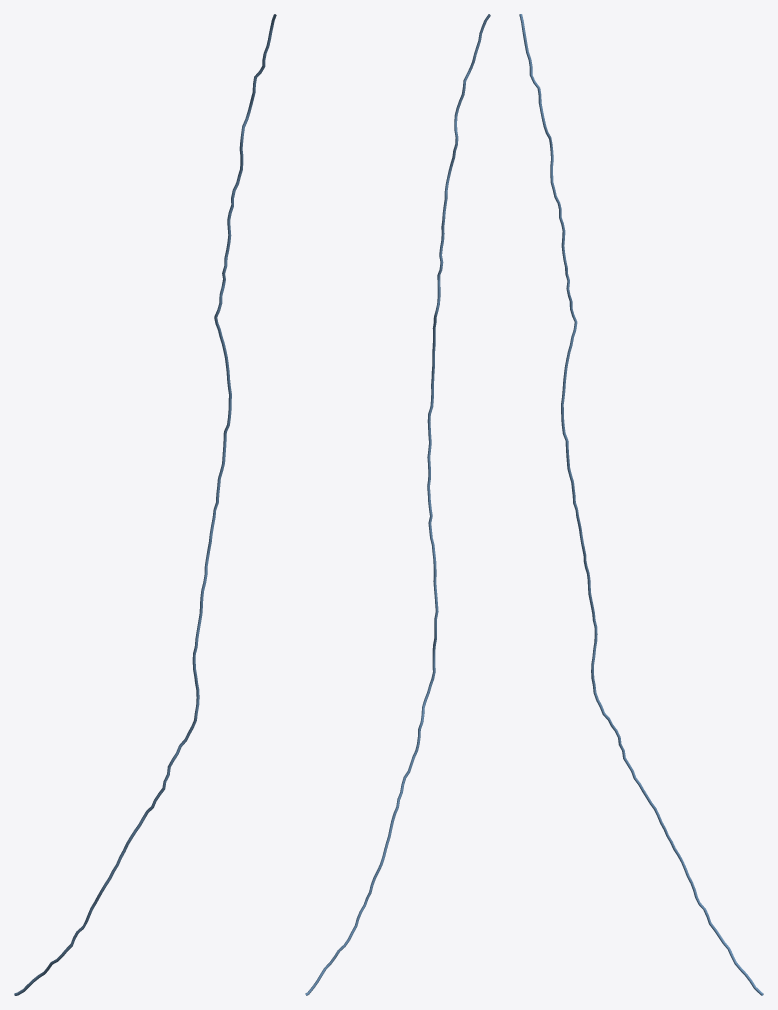
Rendered from sweep24.fbx.
3 renders of one model, left to right at view 1: azimuth 90°, elevation 25°; view 2: azimuth 150°, elevation 25°; view 3: azimuth 270°, elevation 25°, orthographic. The views are drawn at different scales.
Parts seen in each view (by area): view 1: sweep24; view 2: sweep24; view 3: sweep24.
Boxes of the visible parts, box(x1,y1,x2,y2) form: sweep24: box(14, 14, 276, 995); sweep24: box(305, 14, 490, 995); sweep24: box(519, 14, 763, 995).
Size of the model in its own units: 0.5583 by 7.05 by 1.65.
